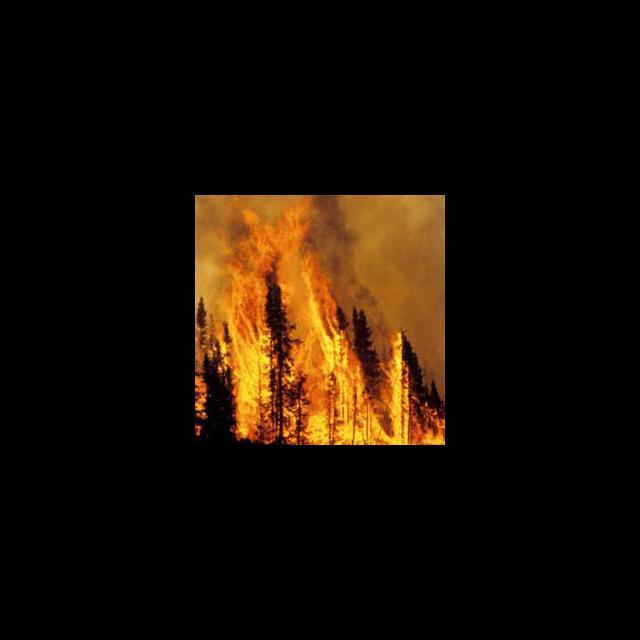Fire: (196, 202, 445, 444)
